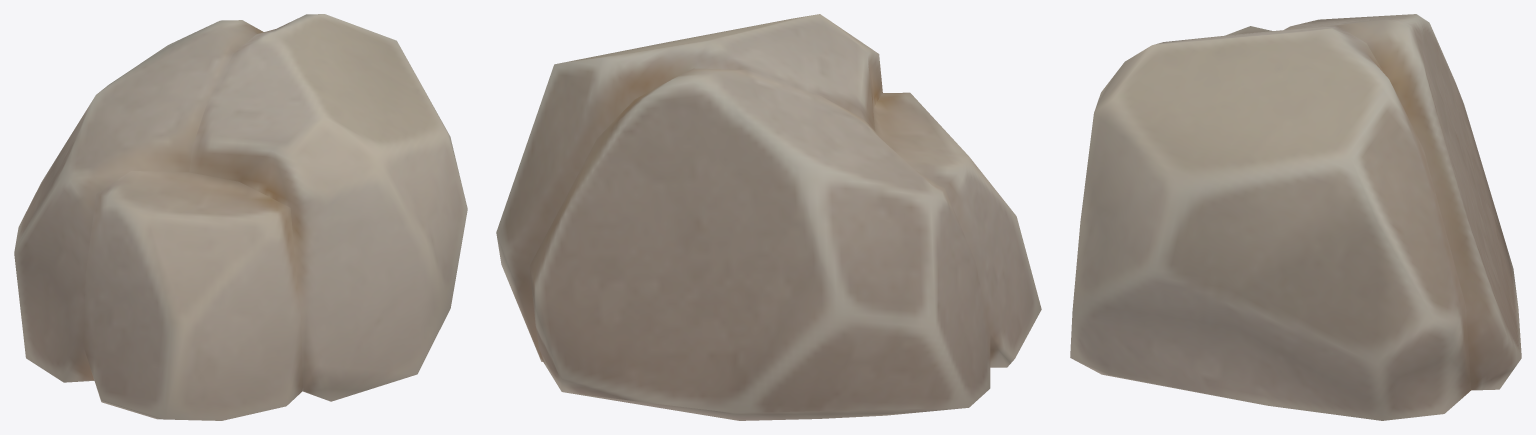
Rendered from rock3.glb.
3 views of the same model, side by side, from view 1: azimuth 30°, elevation 25°; view 2: azimuth 150°, elevation 25°; view 3: azimuth 270°, elevation 25° (orthographic). The views are drawn at different scales.
Parts seen in each view (by area): view 1: Rock3; view 2: Rock3; view 3: Rock3.
Boxes of the visible parts, box(x1,y1,x2,y2) form: Rock3: box(14, 14, 467, 420); Rock3: box(496, 14, 1041, 420); Rock3: box(1070, 14, 1521, 420).
Bounding box in the file's own units: 0.4674 × 0.3245 × 0.403.
Materials: 1 (1 with a texture image).
